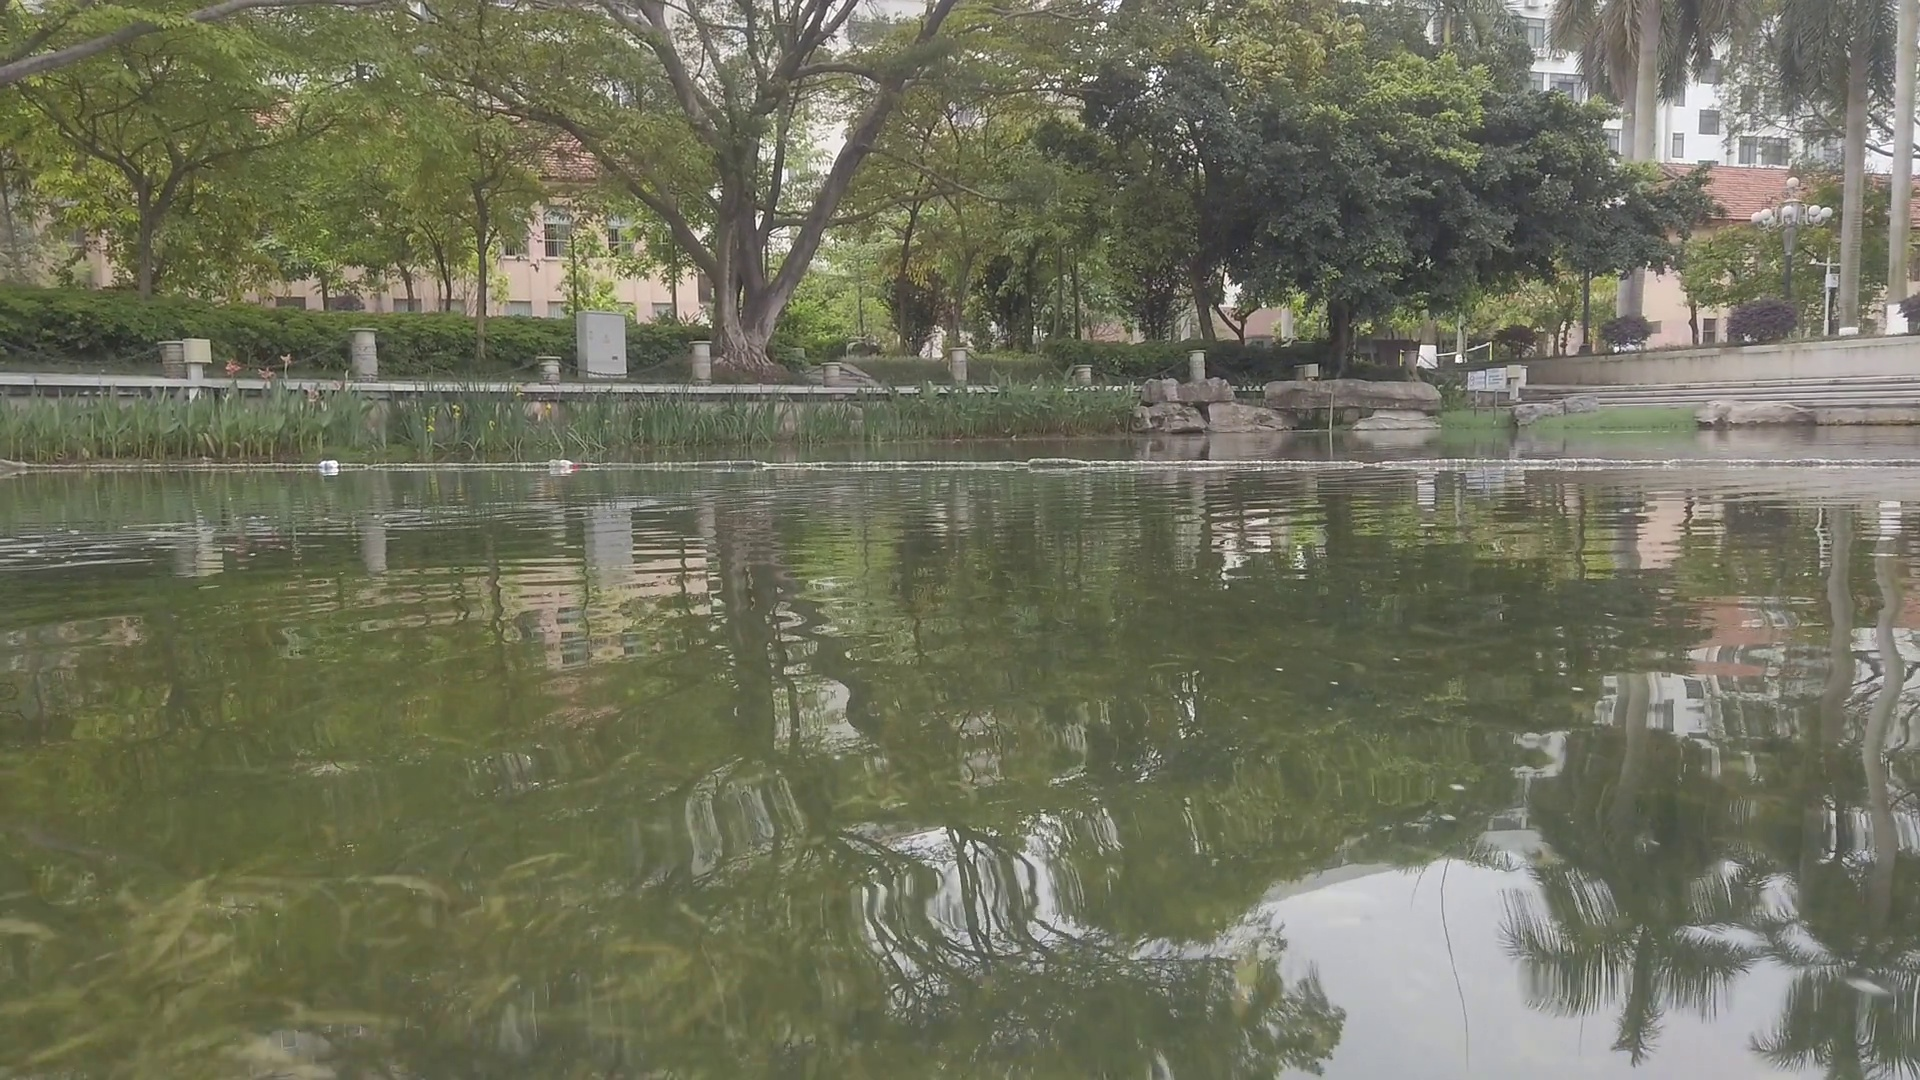bottle: (550, 459, 578, 469), (319, 459, 339, 469)
